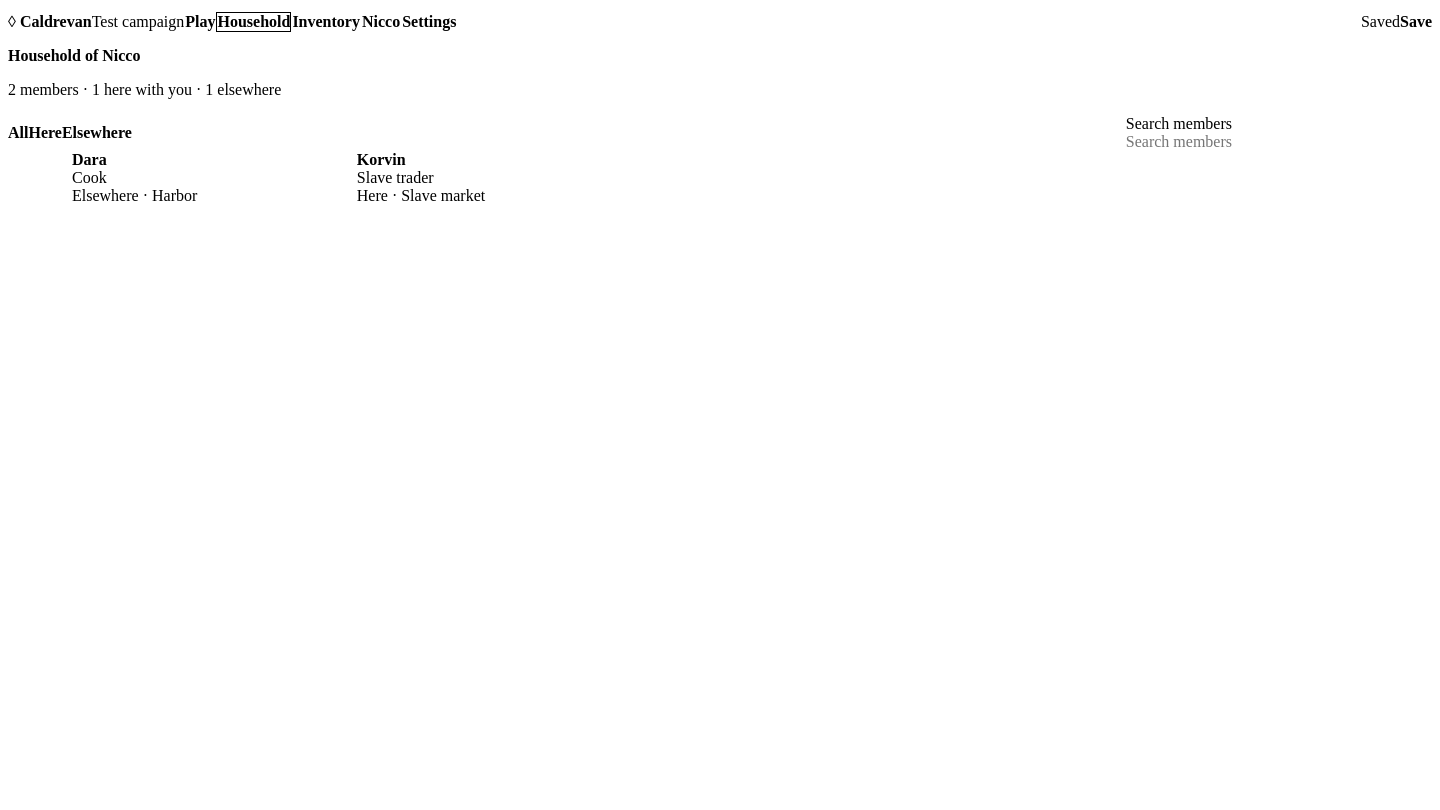
Test: Household page › opens the character drawer; promotion appears only with the capability and sends the explicit request with the rendered revision
Check: the heading "Household of Nicco" is shown, box left=8, top=47, right=140, bottom=64
Click the button with aria-label "View Korvin". click: (435, 178)
box: left=293, top=151, right=578, bottom=205
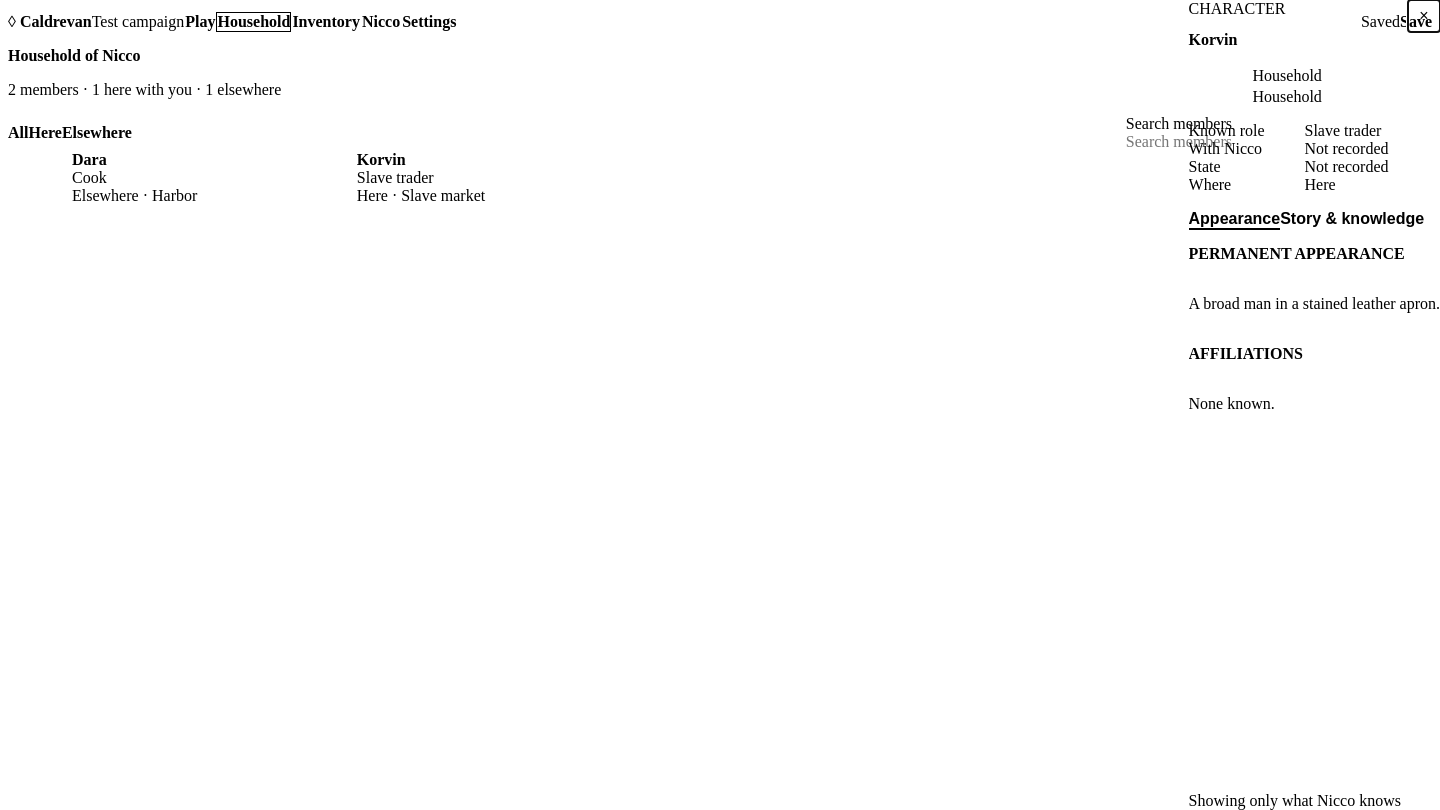
Check: the button "promote" is not shown
Press Escape
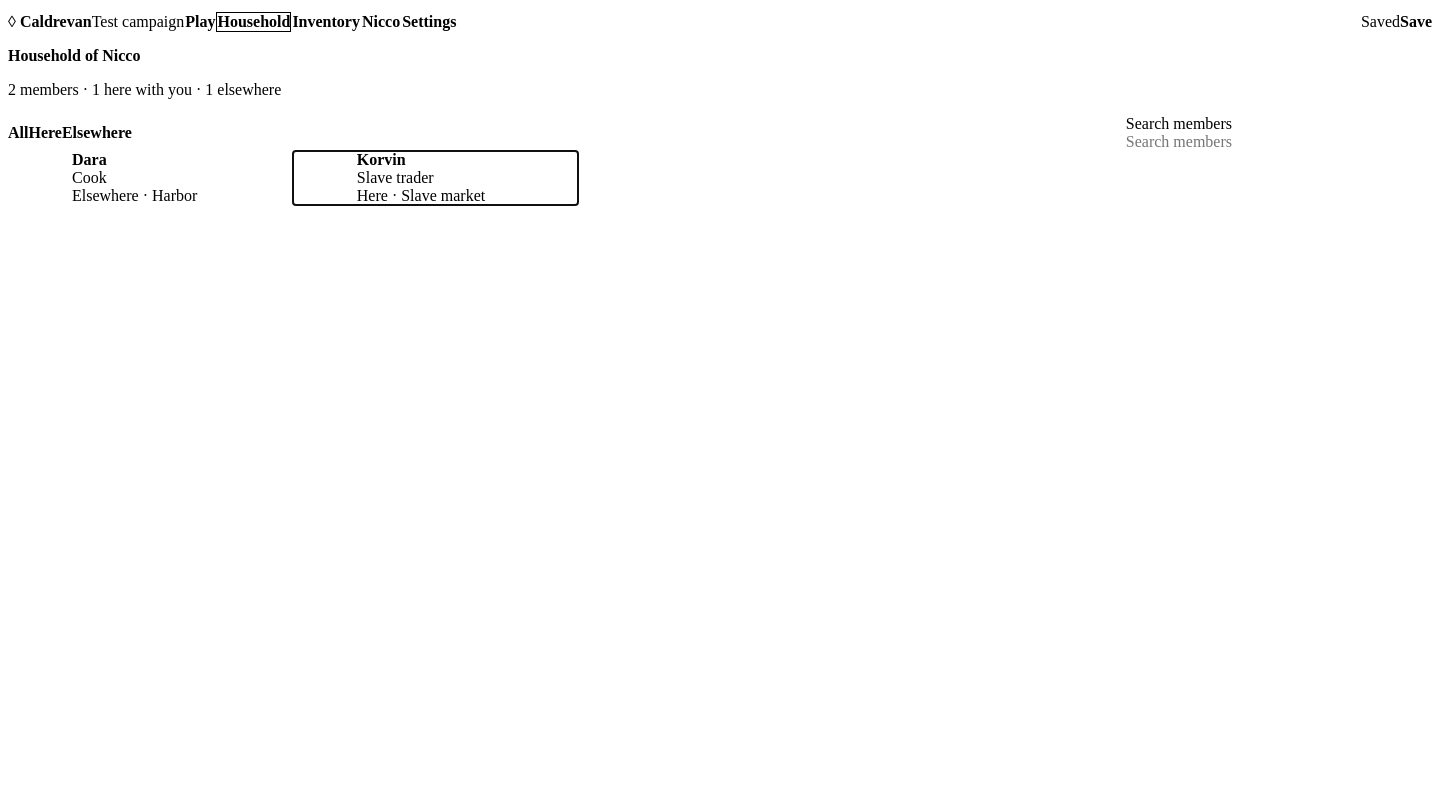
Click the button with aria-label "View Dara". click: (89, 159)
box: left=8, top=151, right=293, bottom=205
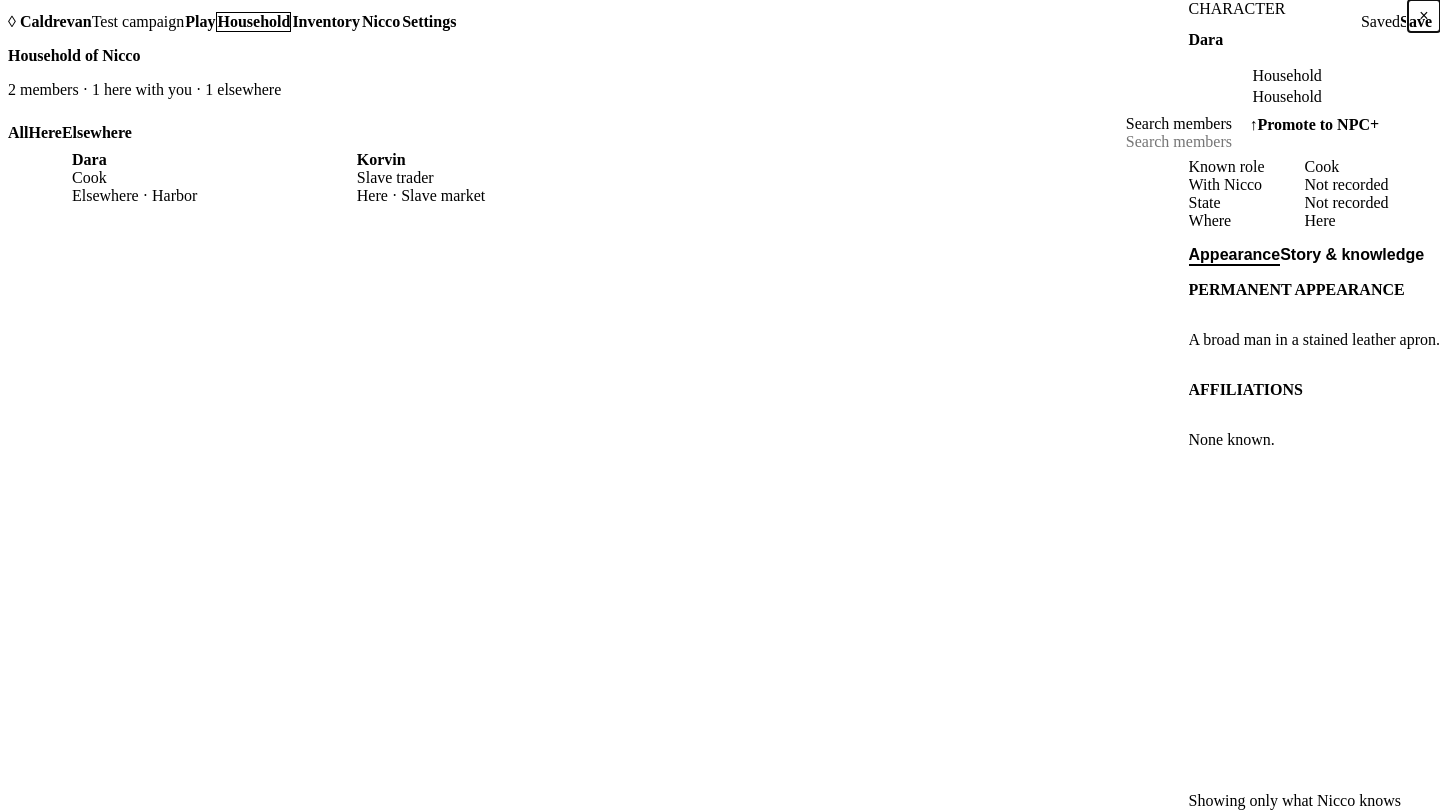
Click the button "↑ Promote to NPC+". click: (1314, 124)
box: left=1188, top=106, right=1439, bottom=142
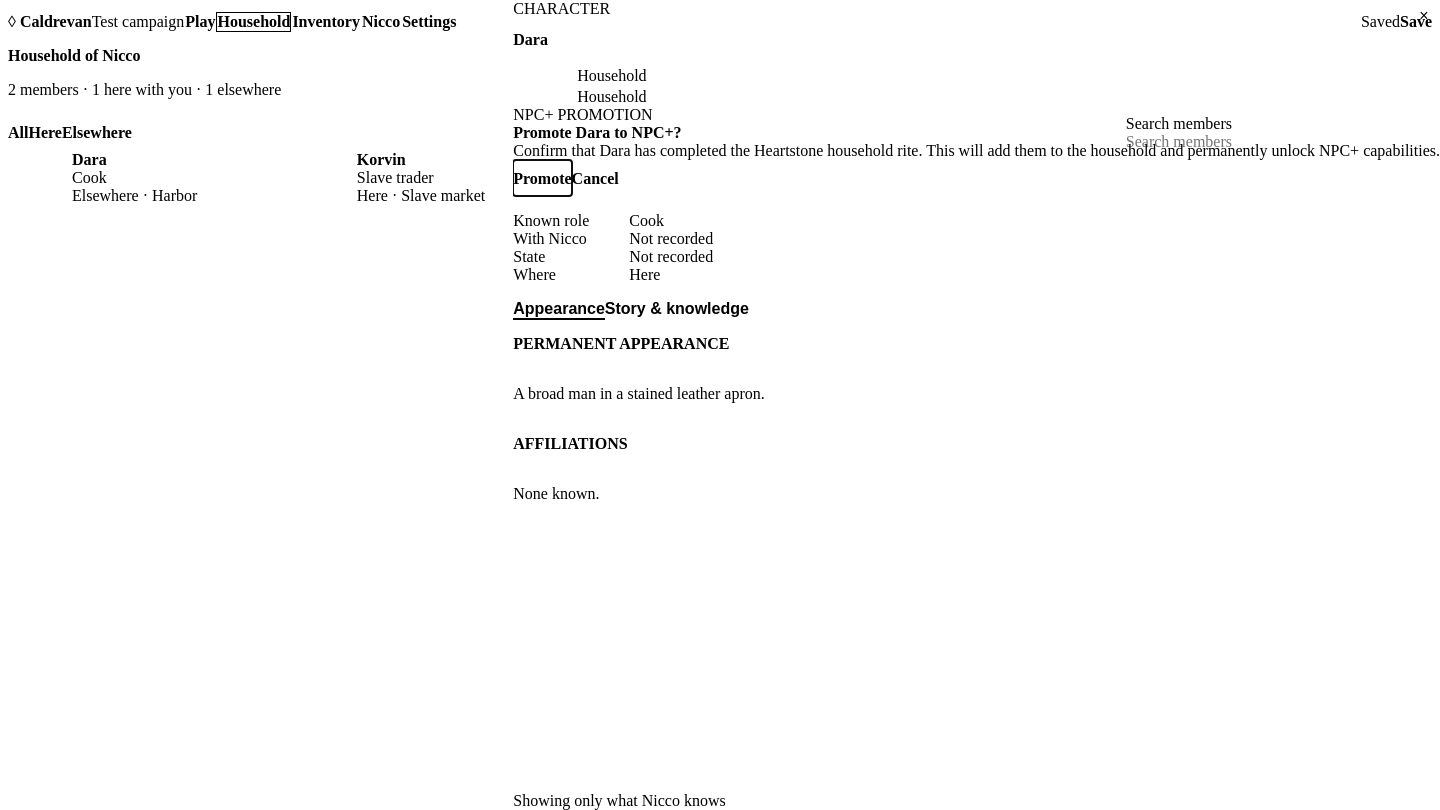
Check: the button "Promote" is shown, box left=513, top=160, right=572, bottom=196
